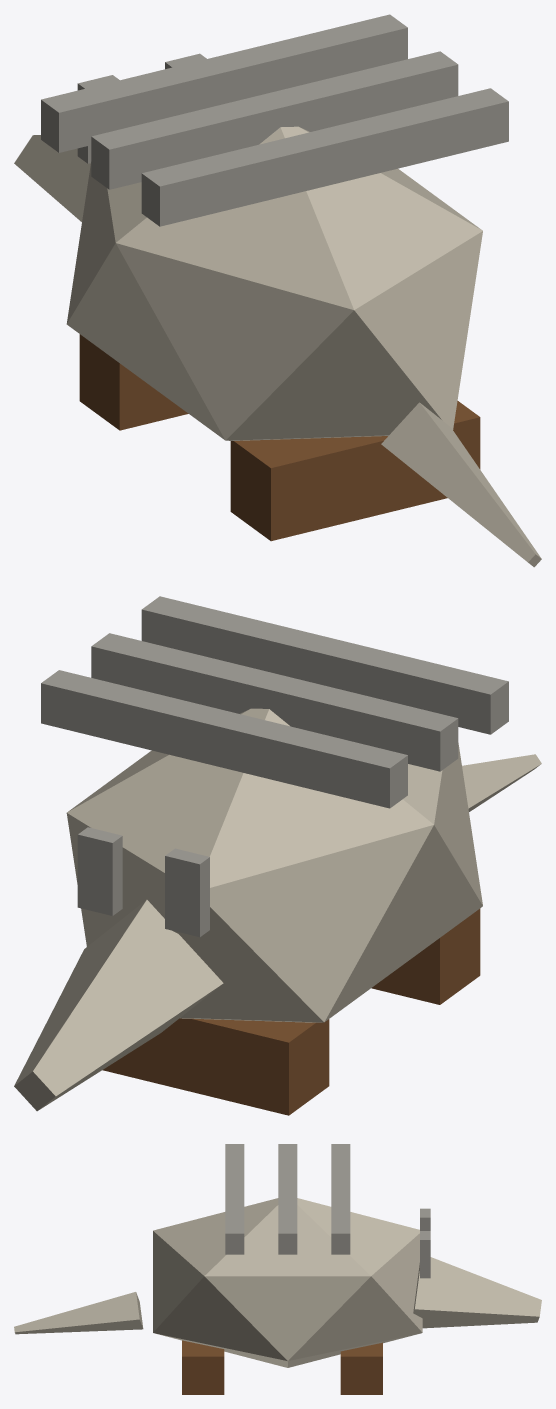
Rendered from tatu.glb.
The picture shows the model from 3 angles, top to bottom: view 1: azimuth 30°, elevation 25°; view 2: azimuth 150°, elevation 25°; view 3: azimuth 270°, elevation 25°; orthographic projection. The views are drawn at different scales.
Visible parts, largest first — view 1: corpo; view 2: corpo; view 3: corpo.
Part boxes in pixels (x1,y1,x2,y2): corpo: (14, 14, 541, 567); corpo: (14, 596, 541, 1115); corpo: (14, 1144, 541, 1394).
Bounding box in the file's own units: 0.2 × 0.187 × 0.4991.
